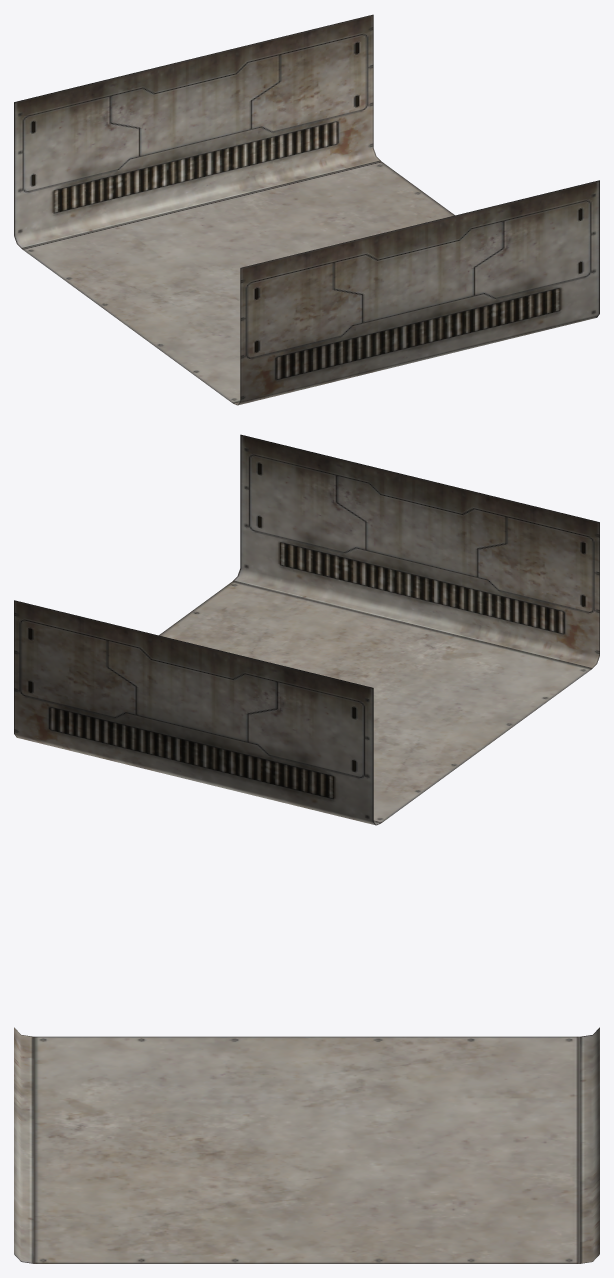
Rendered from lab_ceiling_box.dae.
The picture shows the model from 3 angles, top to bottom: view 1: azimuth 30°, elevation 25°; view 2: azimuth 150°, elevation 25°; view 3: azimuth 270°, elevation 25°; orthographic projection. The views are drawn at different scales.
Visible parts, largest first — view 1: lab_ceiling_box; view 2: lab_ceiling_box; view 3: lab_ceiling_box.
Boxes of the visible parts, box(x1,y1,x2,y2) form: lab_ceiling_box: box(14, 14, 599, 405); lab_ceiling_box: box(14, 434, 599, 825); lab_ceiling_box: box(14, 1027, 599, 1263).
Size of the model in its own units: 2 by 0.75 by 2.18.
